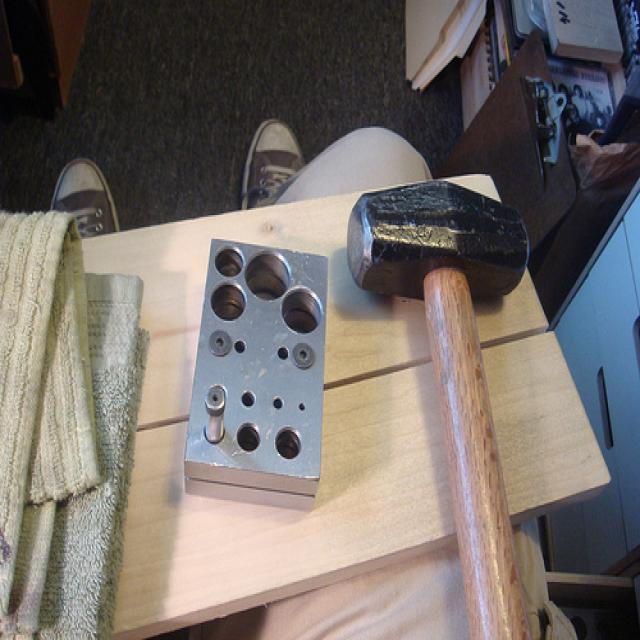hammer: (335, 162, 543, 640)
